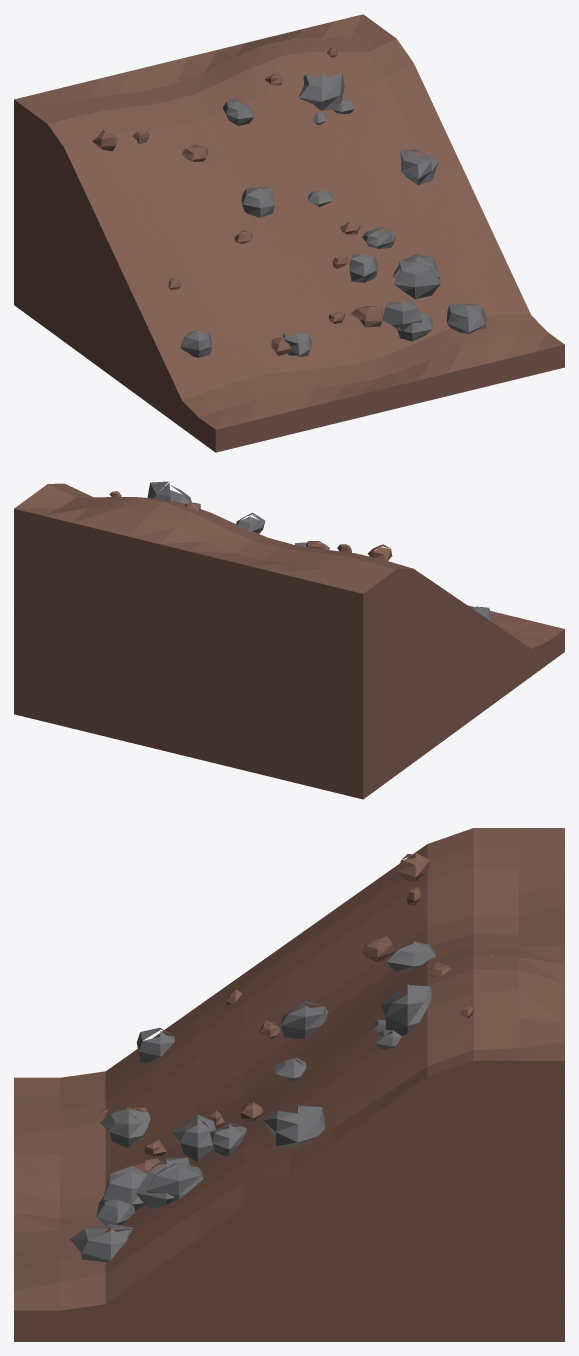
The model's file is volcano-and-lava-fields-volcano-and-lava-fields-talus--e197a6f0__37452.glb.
The picture shows the model from 3 angles, top to bottom: view 1: azimuth 30°, elevation 25°; view 2: azimuth 150°, elevation 25°; view 3: azimuth 270°, elevation 25°; orthographic projection. The views are drawn at different scales.
Visible parts, largest first — view 1: volcano-and-lava-fields-talus-slope-module; view 2: volcano-and-lava-fields-talus-slope-module; view 3: volcano-and-lava-fields-talus-slope-module.
Boxes of the visible parts, x1,y1,x2,y2 form: volcano-and-lava-fields-talus-slope-module: [14, 14, 564, 452]; volcano-and-lava-fields-talus-slope-module: [14, 481, 564, 799]; volcano-and-lava-fields-talus-slope-module: [14, 828, 564, 1341].
Bounding box in the file's own units: 4 × 2.37 × 4.
Materials: 2 (2 with a texture image).
